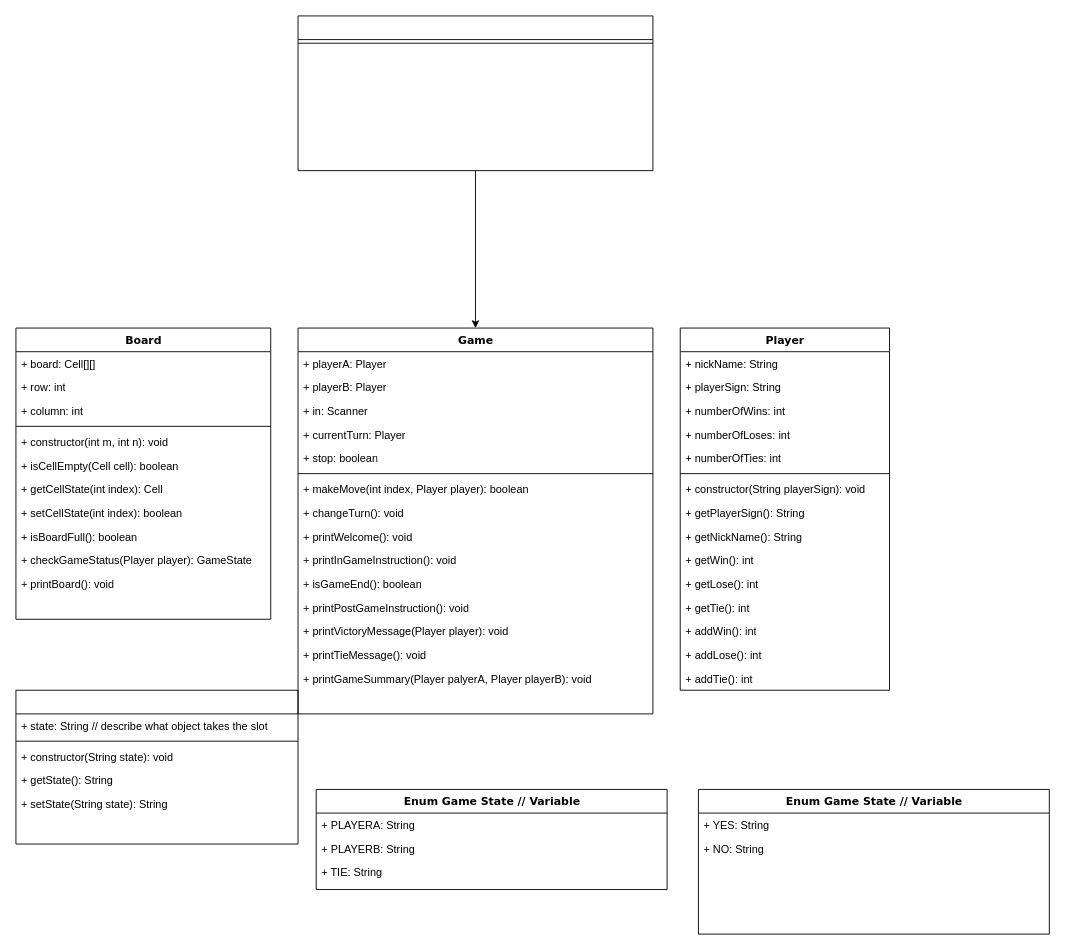
The diagram is 1066 pixels wide and 950 high, and some of its shapes have lost their labels. The box of each missing label's shape, as (x1, y1, x2, y2) in pixels:
Cell: (15, 689, 298, 844)
Main: (297, 15, 653, 171)
